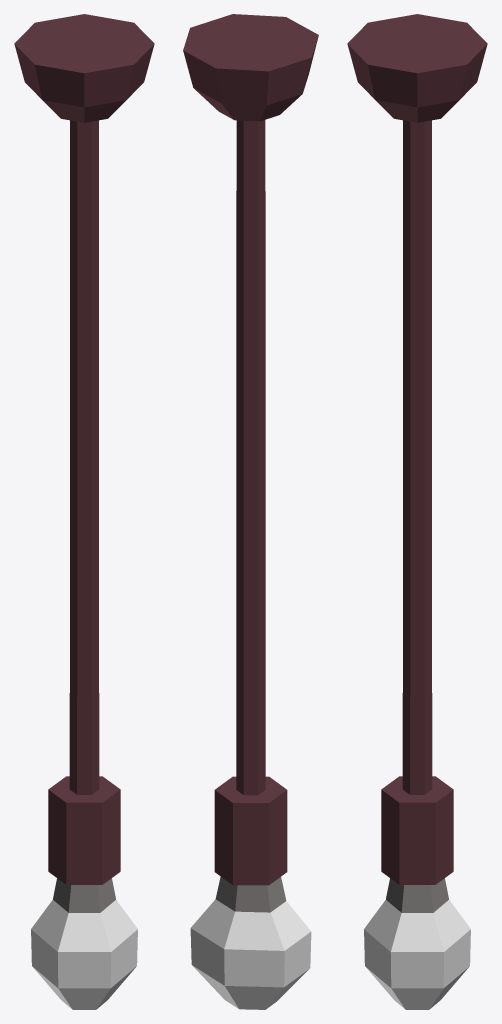
The model's file is light-led-ceiling.fbx.
3 views of the same model, side by side, from view 1: azimuth 90°, elevation 25°; view 2: azimuth 150°, elevation 25°; view 3: azimuth 270°, elevation 25° (orthographic).
Visible parts, largest first — view 1: light-led-ceiling; view 2: light-led-ceiling; view 3: light-led-ceiling.
Boxes of the visible parts, x1,y1,x2,y2 form: light-led-ceiling: (14,14,154,1009); light-led-ceiling: (183,14,318,1009); light-led-ceiling: (347,14,487,1009).
Size of the model in its own units: 0.13 by 0.9774 by 0.13.
